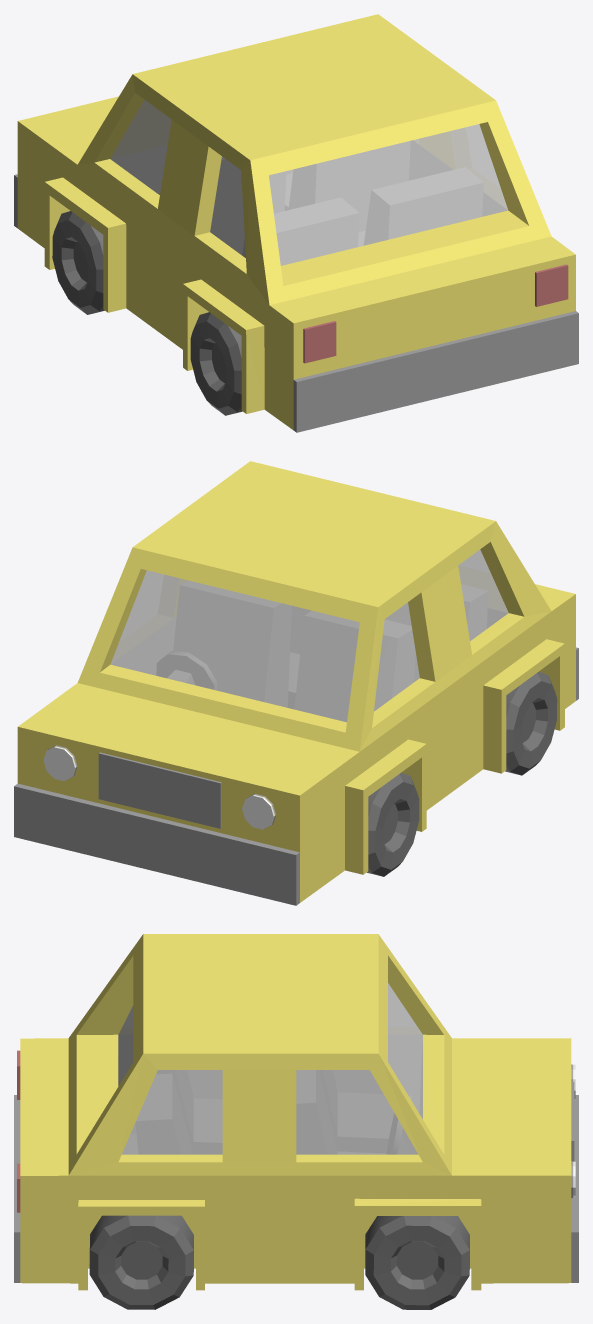
The model's file is vr_car.glb.
3 views of the same model, one above another, from view 1: azimuth 30°, elevation 25°; view 2: azimuth 150°, elevation 25°; view 3: azimuth 270°, elevation 25° (orthographic).
Visible parts, largest first — view 1: 3DSMeshMatrix (×11); view 2: 3DSMeshMatrix (×13); view 3: 3DSMeshMatrix (×11).
Boxes of the visible parts, x1,y1,x2,y2 form: 3DSMeshMatrix (×11): (17,14,578,432); 3DSMeshMatrix (×13): (14,461,575,905); 3DSMeshMatrix (×11): (14,934,578,1309).
Size of the model in its own units: 101 by 73.12 by 155.
